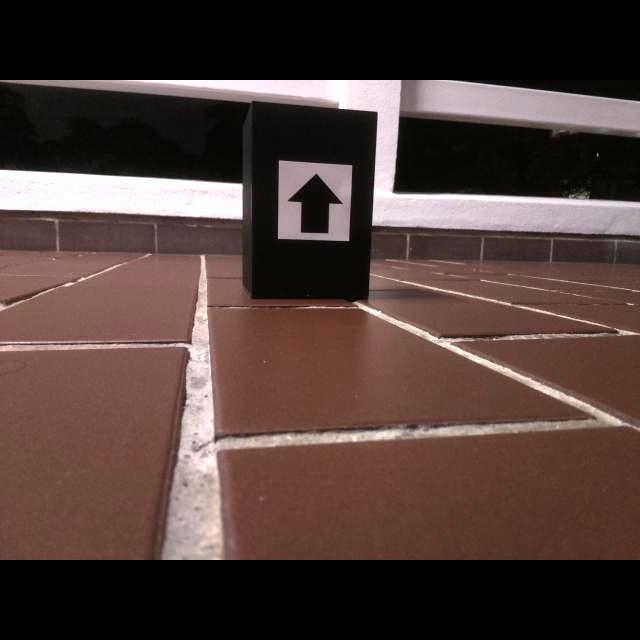UP: (286, 173, 344, 234)
